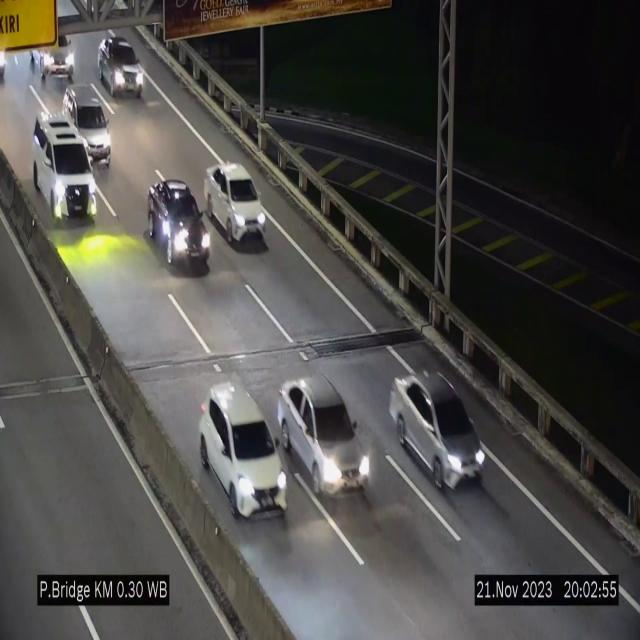Car: (276, 371, 373, 503), (199, 383, 286, 518), (389, 370, 485, 490), (29, 113, 100, 223), (144, 174, 210, 274), (205, 163, 267, 246), (61, 86, 117, 158), (26, 22, 80, 84), (98, 35, 144, 98)
